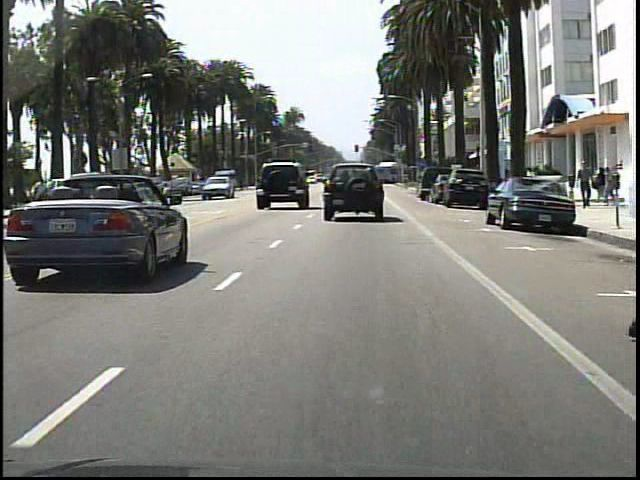person: (571, 154, 594, 212)
